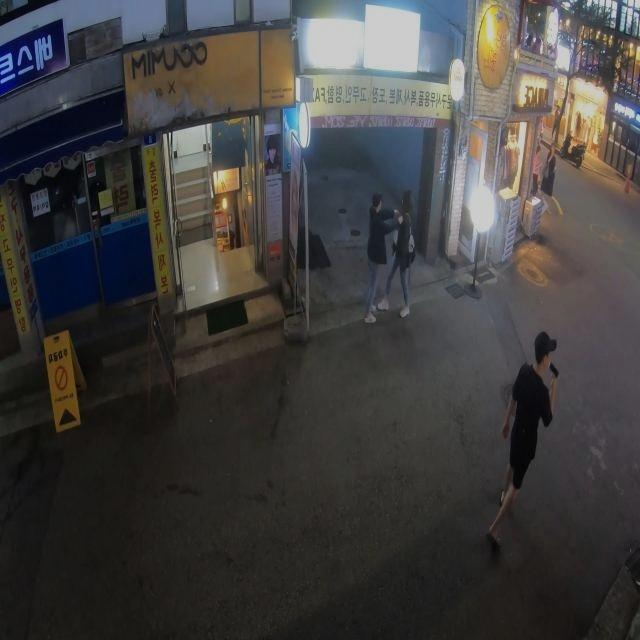fight: (360, 192, 416, 322)
non-fight: (487, 330, 559, 550)
